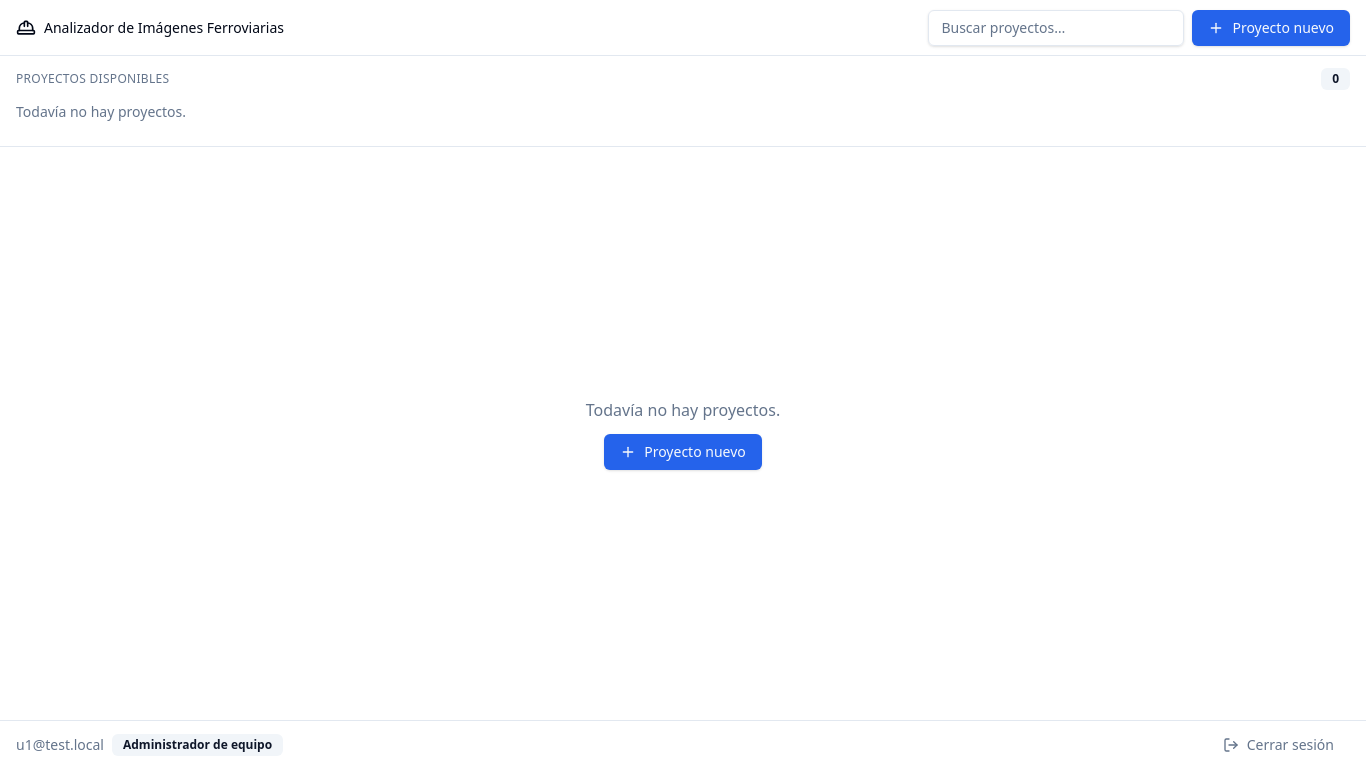
it: SelectorProyectos: visibilidad por rol › muestra el error y mantiene el diálogo cuando la creación falla
The width and height of the screenshot is (1366, 768).
Click the button "Proyecto nuevo" in the row of "Analizador de Imágenes Ferroviarias" at (1271, 28), box [1192,10,1350,46]
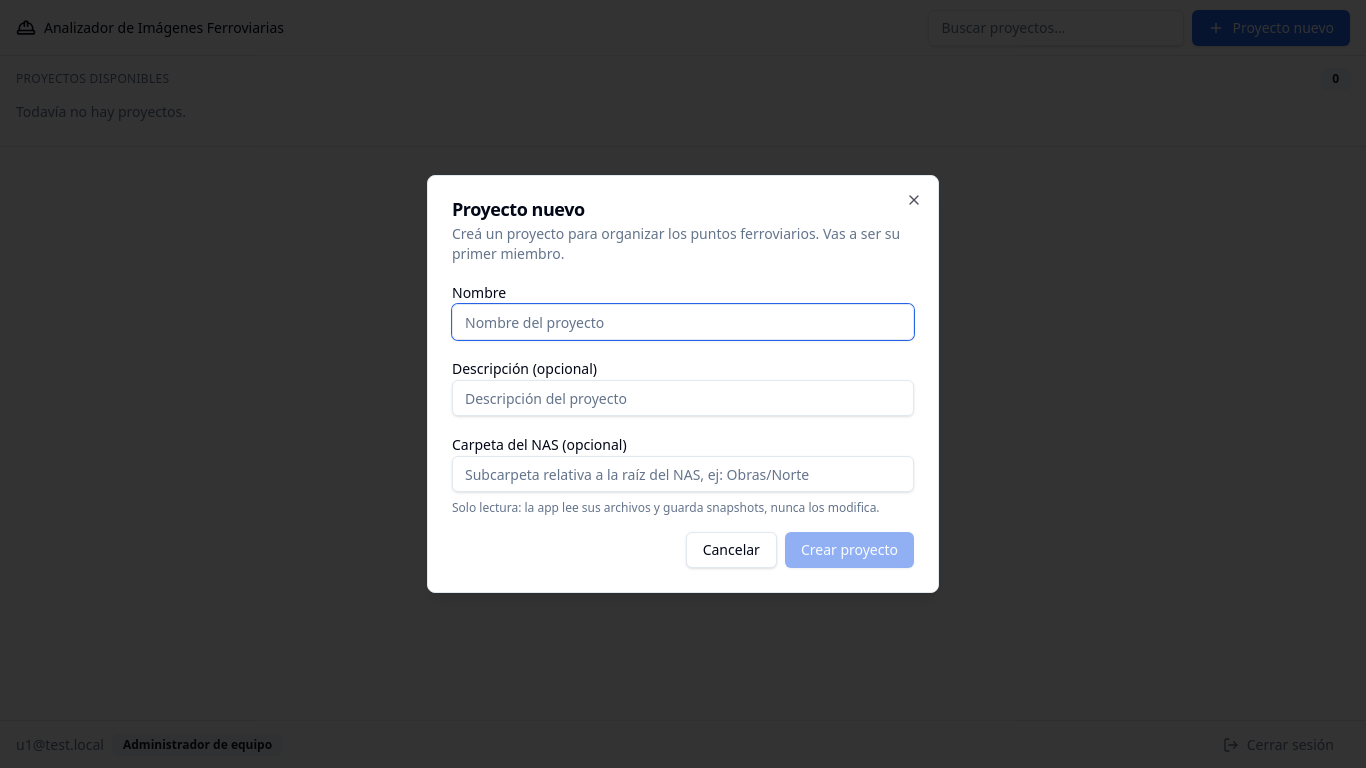
Type "Obra Ilegal" into the field labelled "Nombre" at (683, 322), box [452,304,914,340]
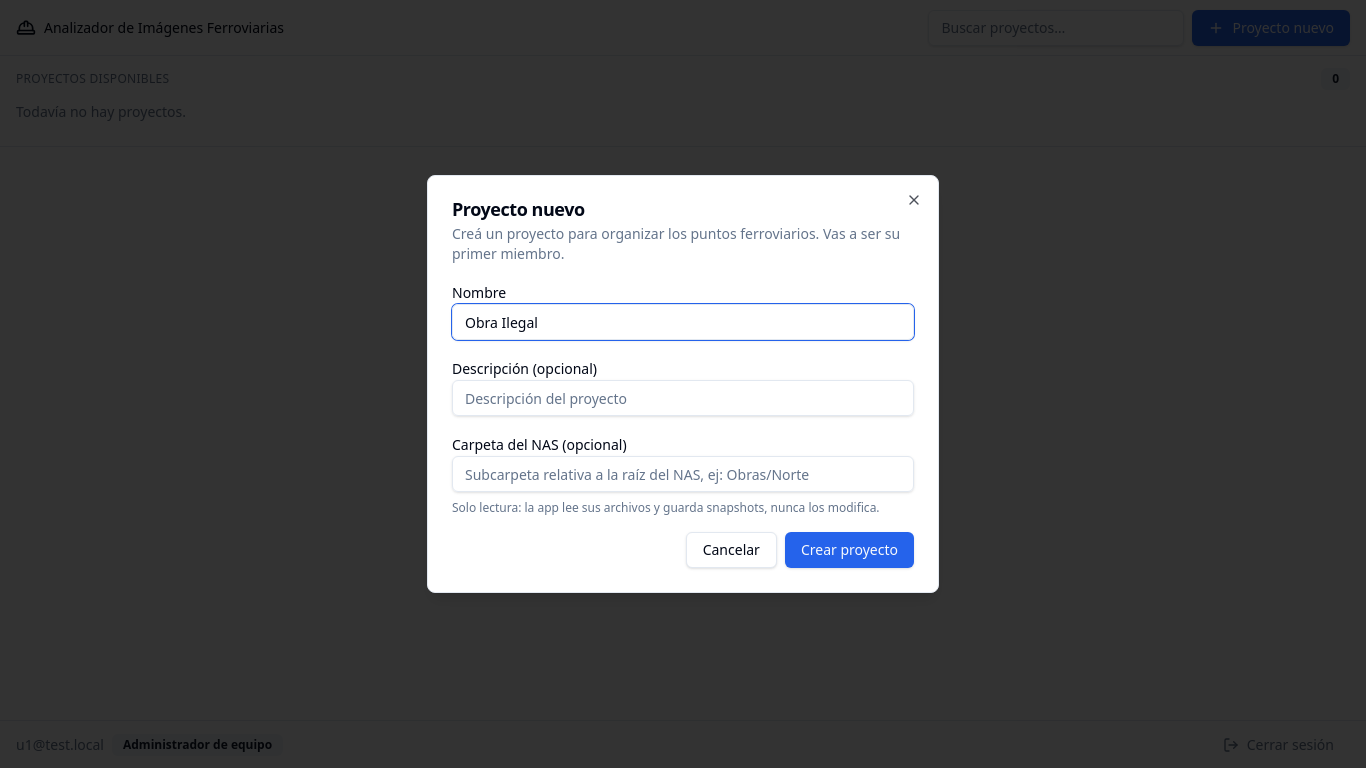
Click the button "Crear proyecto" at (849, 550), box [785,532,914,568]
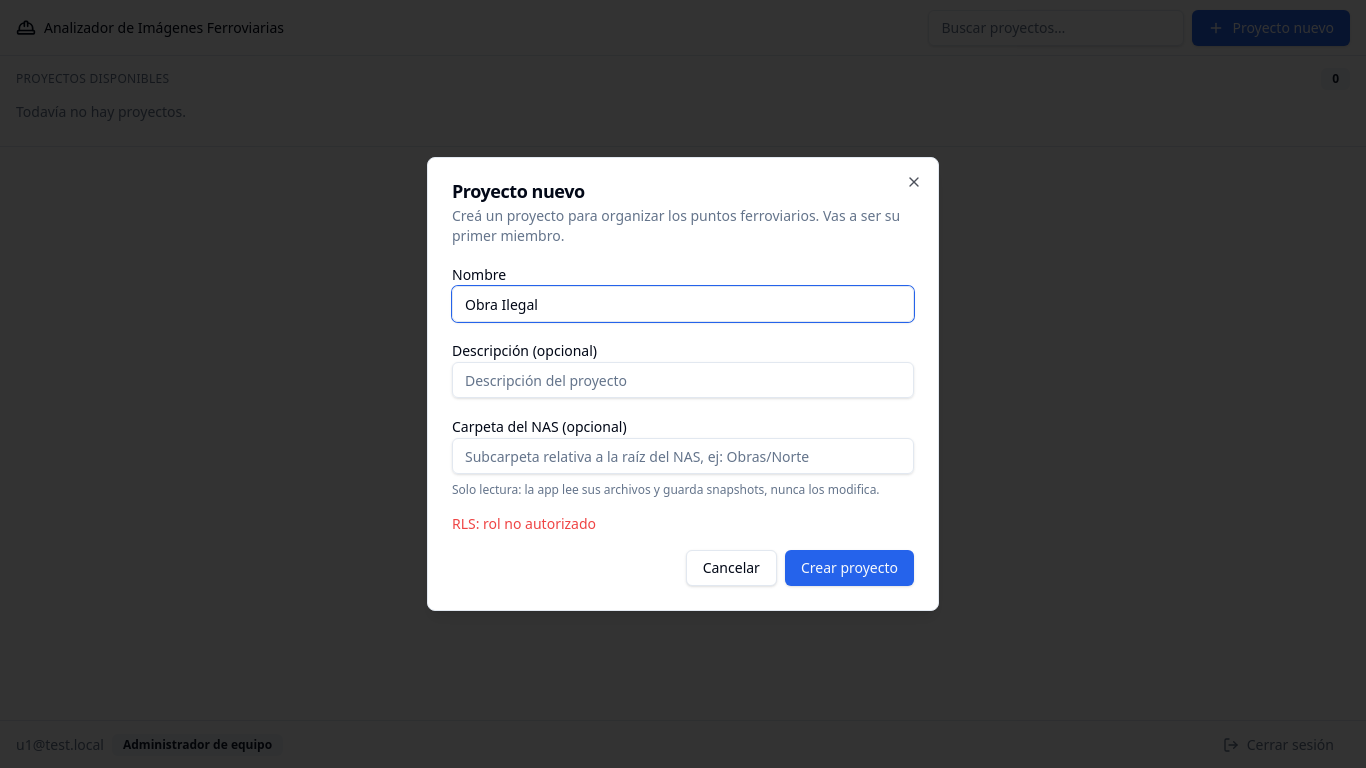
Expected: the button "Crear proyecto" is shown, [785,550,914,586]
Expected: the text "RLS: rol no autorizado" is shown, [452,514,596,533]
